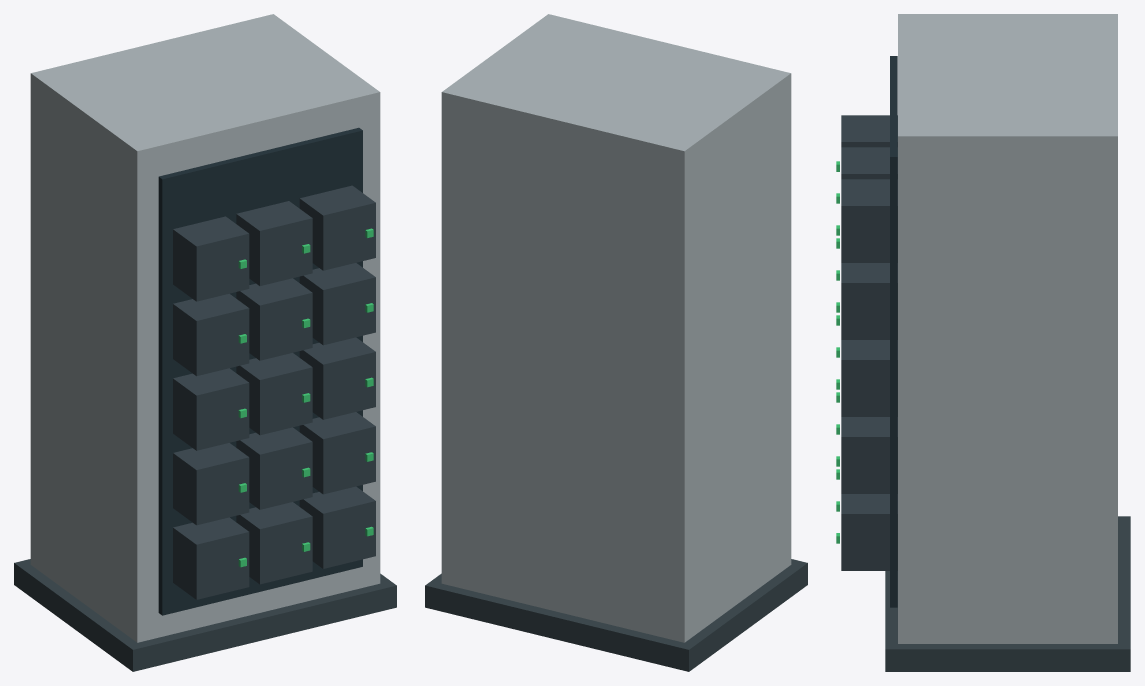
The model's file is battery-cabinet.glb.
The picture shows the model from 3 angles, left to right: view 1: azimuth 30°, elevation 25°; view 2: azimuth 150°, elevation 25°; view 3: azimuth 270°, elevation 25°; orthographic projection. The views are drawn at different scales.
Parts seen in each view (by area): view 1: Cabinet, Glazed front, Base plinth, Battery module 5-1, Battery module 2-1, Battery module 1-1, Battery module 4-1, Battery module 3-1, Battery module 5-3, Battery module 5-2, Battery module 2-3, Battery module 1-3 (+6 smaller); view 2: Cabinet, Base plinth; view 3: Cabinet, Base plinth, Glazed front, Battery module 5-3, Battery module 1-3, Battery module 2-3, Battery module 3-3, Battery module 4-3, Battery module 5-1, Battery module 5-2.
Boxes of the visible parts, x1,y1,x2,y2 form: Cabinet: [30, 14, 380, 642]; Glazed front: [158, 127, 362, 615]; Base plinth: [14, 559, 396, 671]; Battery module 5-1: [173, 216, 249, 301]; Battery module 2-1: [173, 443, 249, 525]; Battery module 1-1: [173, 517, 249, 599]; Battery module 4-1: [173, 293, 249, 376]; Battery module 3-1: [173, 368, 249, 450]; Battery module 5-3: [299, 185, 375, 270]; Battery module 5-2: [236, 201, 312, 285]; Battery module 2-3: [299, 412, 375, 494]; Battery module 1-3: [299, 486, 375, 568]; Cabinet: [441, 14, 791, 642]; Base plinth: [425, 559, 807, 671]; Cabinet: [898, 14, 1117, 643]; Base plinth: [885, 516, 1130, 671]; Glazed front: [890, 56, 897, 607]; Battery module 5-3: [841, 179, 897, 262]; Battery module 1-3: [841, 494, 897, 570]; Battery module 2-3: [841, 417, 897, 493]; Battery module 3-3: [841, 340, 897, 416]; Battery module 4-3: [841, 263, 897, 339]; Battery module 5-1: [841, 115, 897, 147]; Battery module 5-2: [841, 147, 897, 179].
Bounding box in the file's own units: 1 × 1.86 × 0.936.
